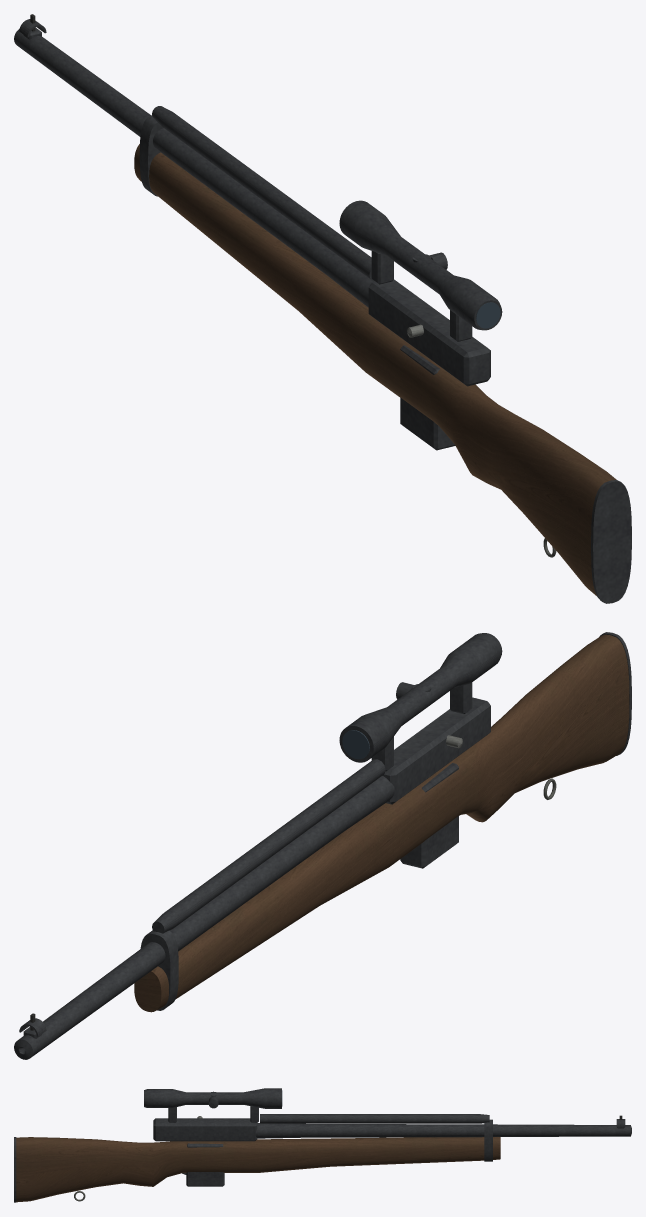
3 views of the same model, one above another, from view 1: azimuth 30°, elevation 25°; view 2: azimuth 150°, elevation 25°; view 3: azimuth 270°, elevation 25° (orthographic). The views are drawn at different scales.
Visible parts, largest first — view 1: FP_body, TP_body, FP_mag, WD_body; view 2: FP_body, TP_body, FP_mag, WD_body; view 3: FP_body, TP_body, FP_mag.
Boxes of the visible parts, box(x1,y1,x2,y2) form: FP_body: box(14, 14, 631, 603); TP_body: box(16, 33, 631, 602); FP_mag: box(400, 345, 455, 450); WD_body: box(148, 125, 631, 602); FP_body: box(14, 632, 631, 1059); TP_body: box(16, 632, 630, 1059); FP_mag: box(400, 763, 458, 868); WD_body: box(18, 633, 499, 1054); FP_body: box(14, 1088, 631, 1202); TP_body: box(14, 1123, 630, 1202); FP_mag: box(186, 1143, 224, 1186).
Bounding box in the file's own units: 0.0545 × 0.227 × 1.13.
Materials: 6 (5 with a texture image).
